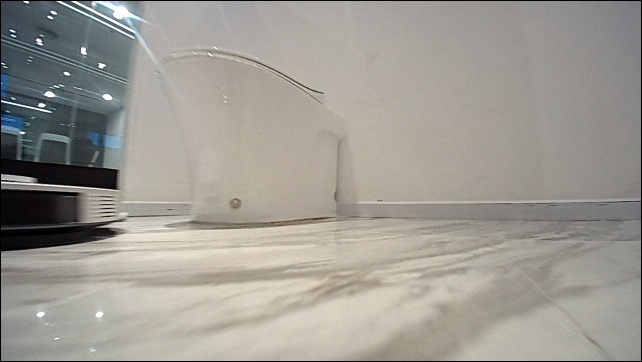toilet: (155, 44, 347, 221)
